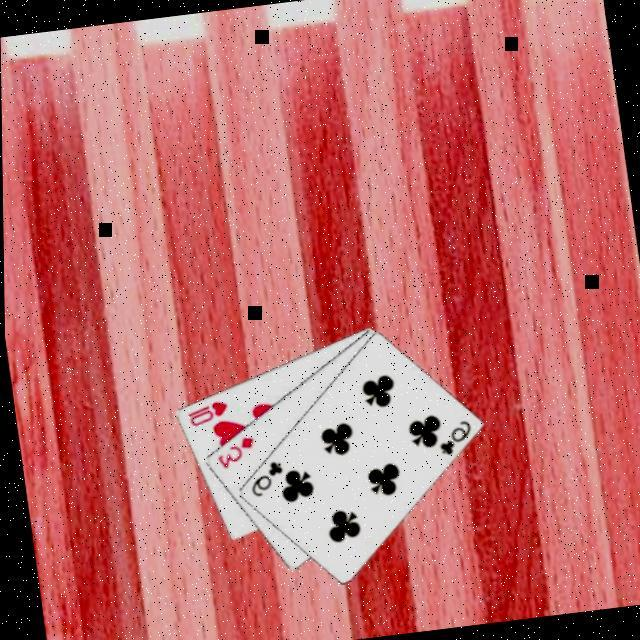10H: (180, 398, 230, 432)
3D: (209, 434, 257, 475)
6C: (241, 458, 286, 502), (430, 418, 475, 460)
